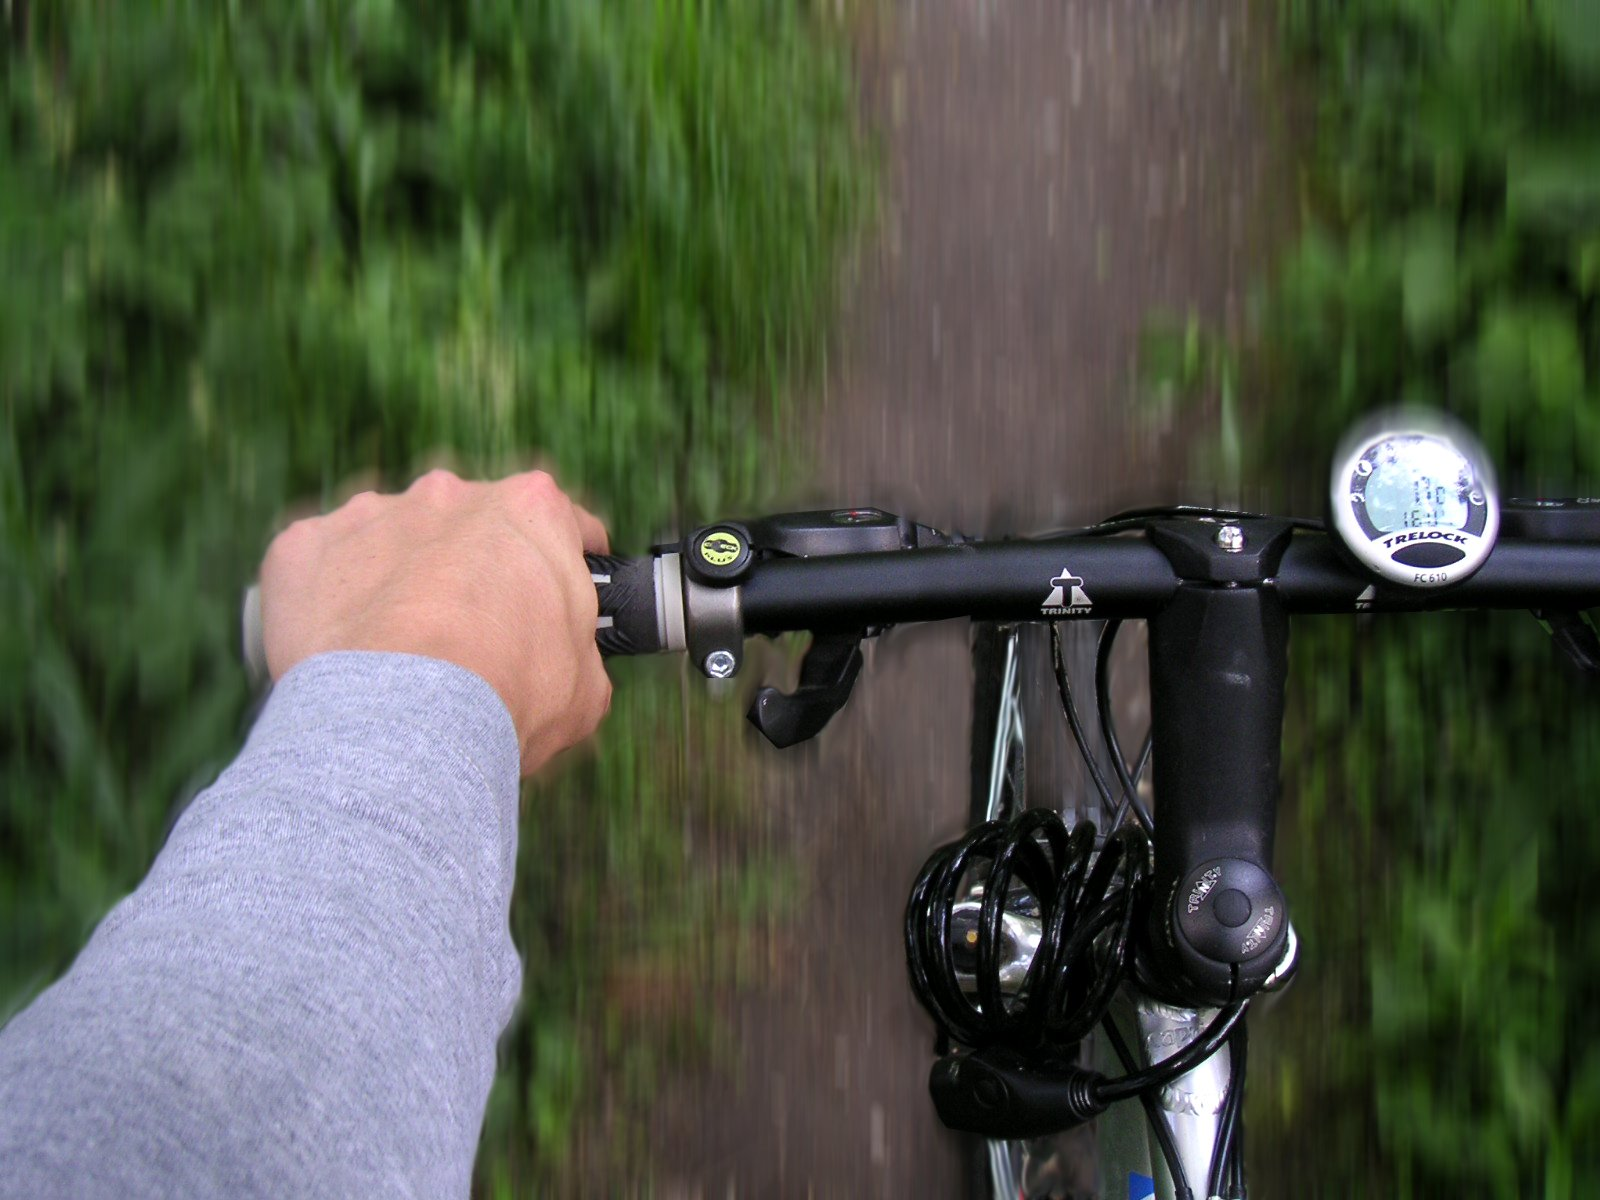Bicycle: (283, 366, 1572, 1136)
